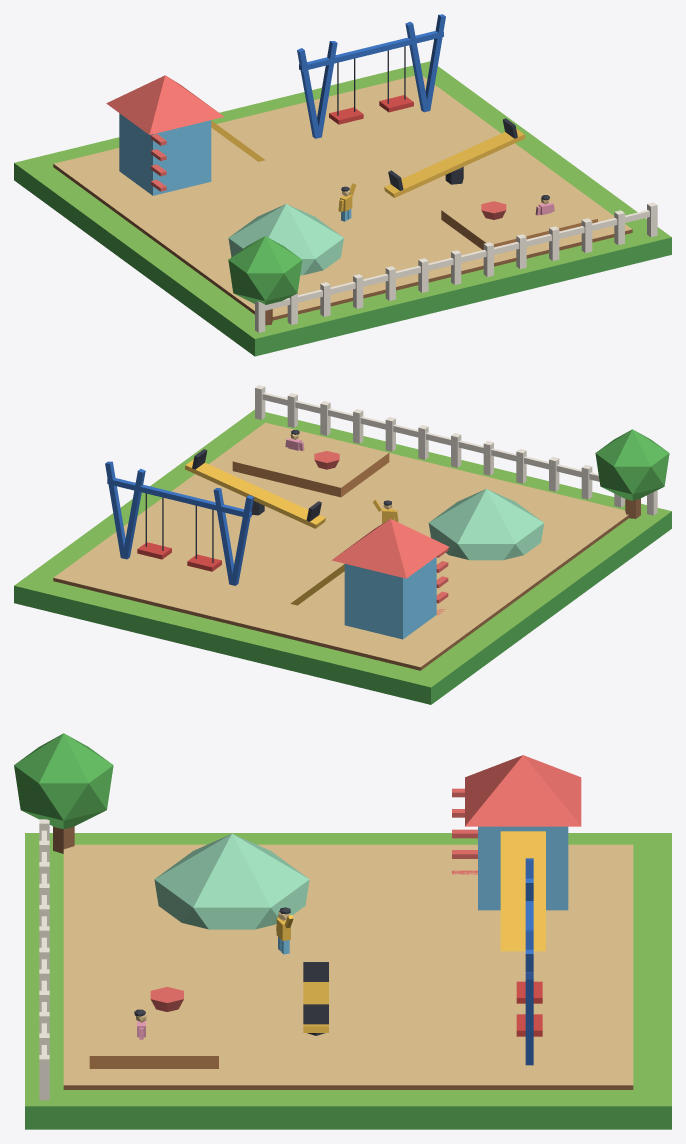
The model's file is park_playground.glb.
The picture shows the model from 3 angles, top to bottom: view 1: azimuth 30°, elevation 25°; view 2: azimuth 150°, elevation 25°; view 3: azimuth 270°, elevation 25°; orthographic projection. The views are drawn at different scales.
Visible parts, largest first — view 1: park_playground; view 2: park_playground; view 3: park_playground.
Part boxes in pixels (x1,y1,x2,y2): park_playground: (14, 14, 671, 356); park_playground: (14, 385, 671, 704); park_playground: (14, 733, 671, 1129).
Size of the model in its own units: 1.02 by 0.36 by 1.02.
